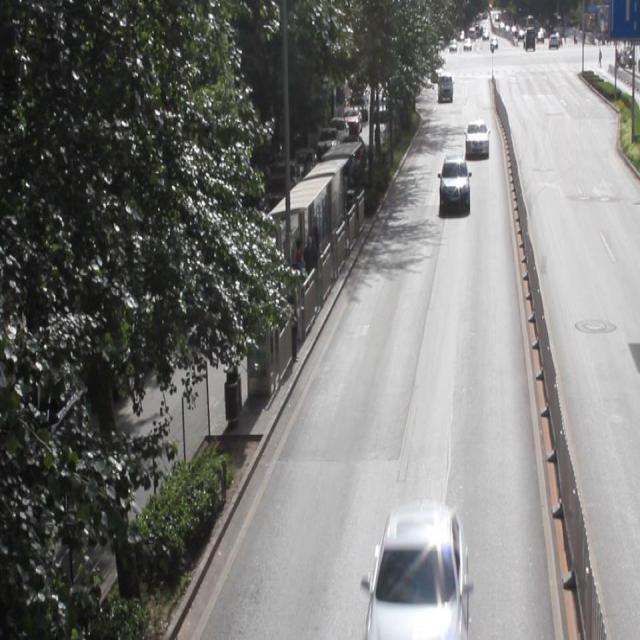car: (367, 501, 468, 640), (438, 154, 468, 210), (462, 118, 488, 156)
